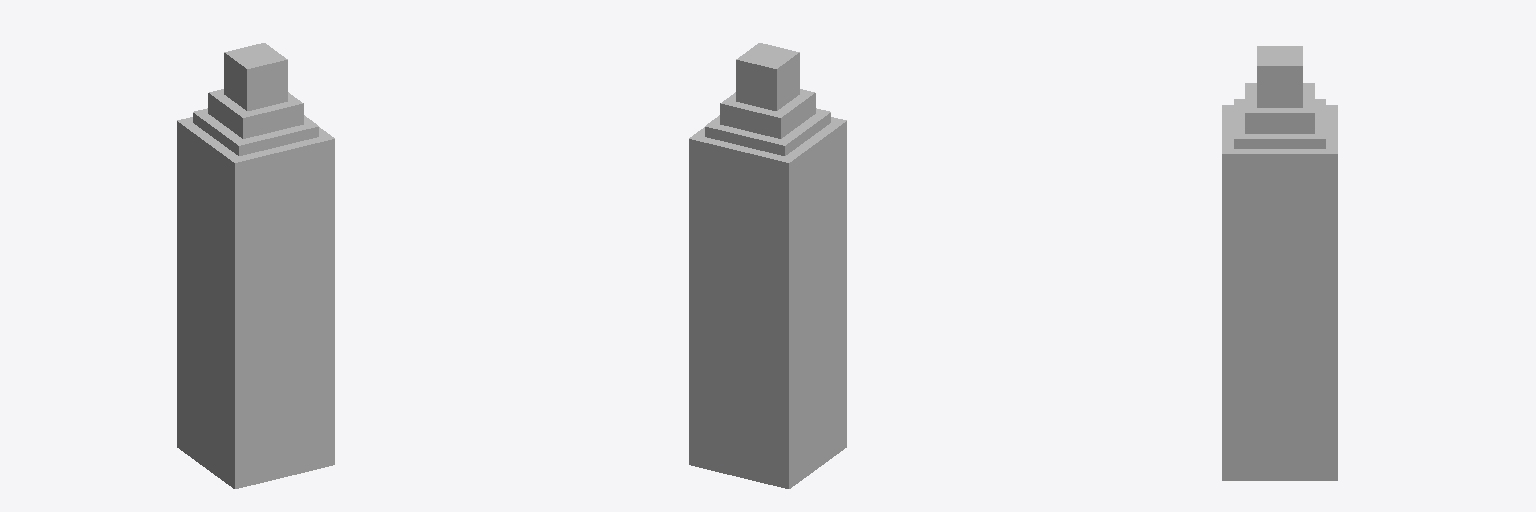
Rendered from chlorinedylinderobj.obj.
The picture shows the model from 3 angles: view 1: azimuth 30°, elevation 25°; view 2: azimuth 150°, elevation 25°; view 3: azimuth 270°, elevation 25°; orthographic projection.
Parts seen in each view (by area): view 1: Cube; view 2: Cube; view 3: Cube.
Part boxes in pixels (x1,y1,x2,y2): Cube: (177, 43, 334, 488); Cube: (689, 43, 846, 488); Cube: (1222, 46, 1337, 480).
Size of the model in its own units: 0.625 by 2.38 by 0.625.